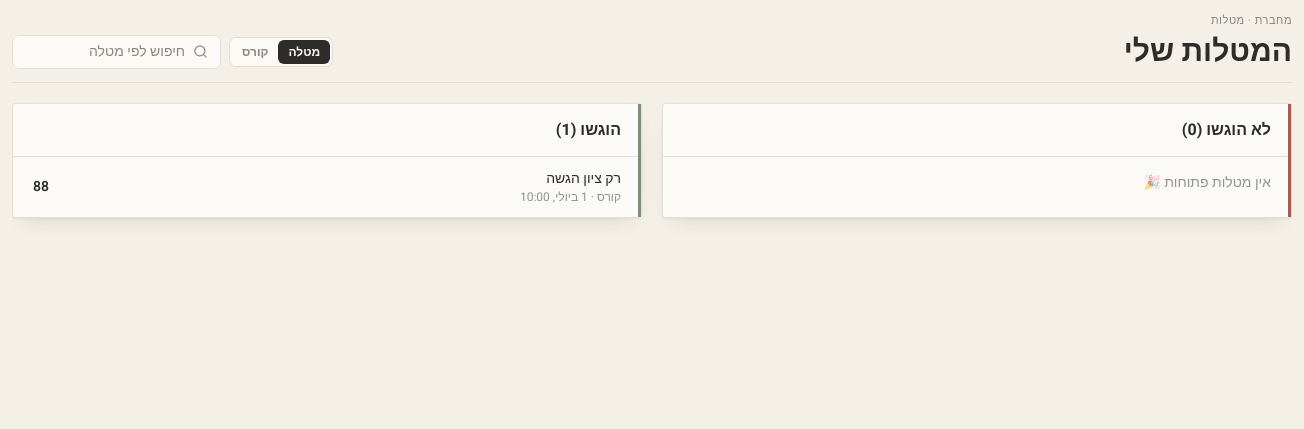
AssignmentsPage › shows the submission score but no content score when content is not yet approved (null)
The image size is (1304, 429).
Click the text "רק ציון הגשה" at (584, 178), box [546,168,621,189]
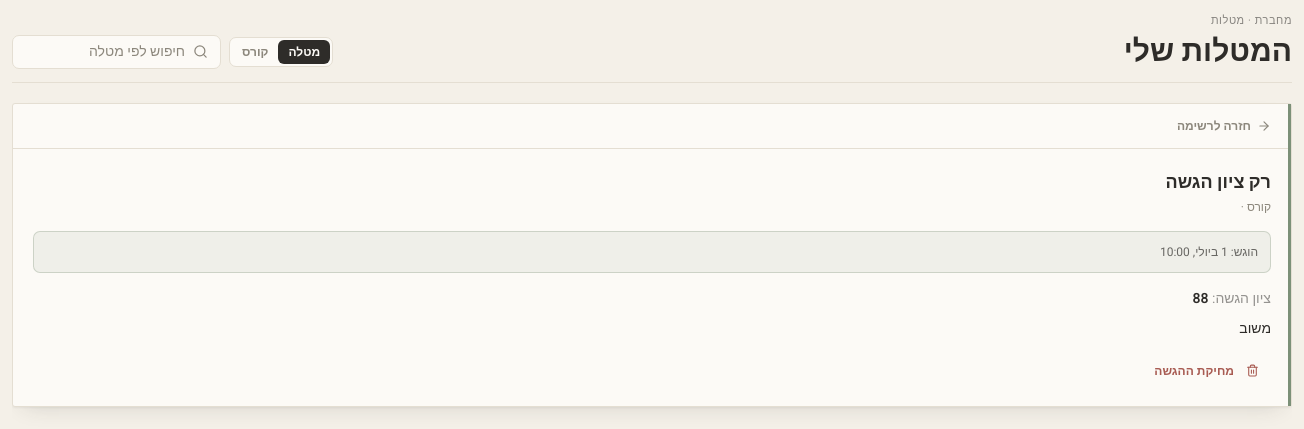
Now the text "ציון הגשה:" is shown, box [1208,288,1271,309]
